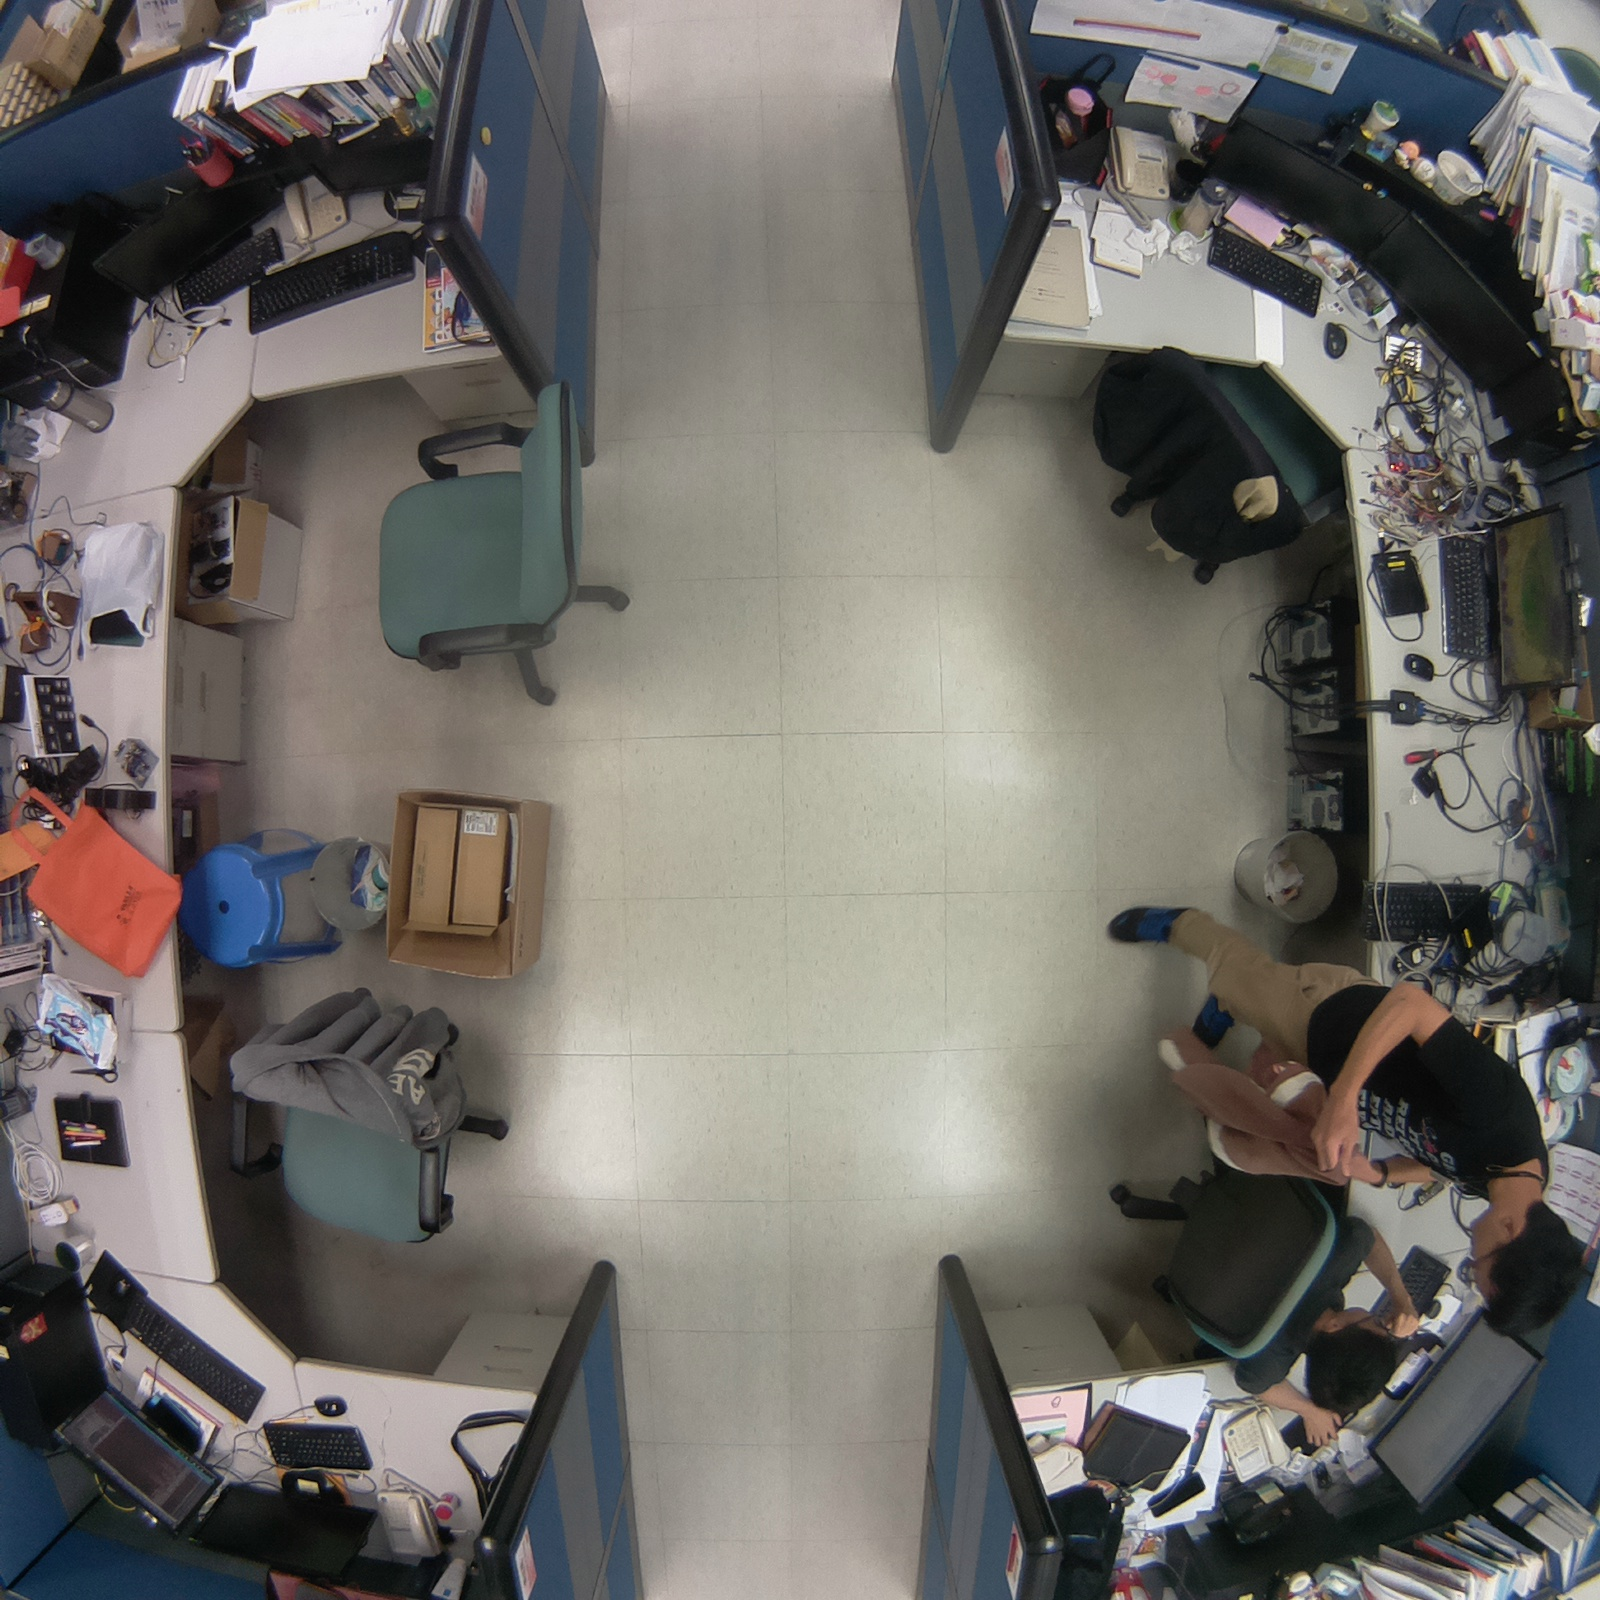chair: (347, 355, 650, 734), (201, 978, 537, 1263), (1063, 322, 1360, 601)
head: (1460, 1198, 1590, 1343), (1303, 1302, 1409, 1425)
sitting: (1104, 1163, 1418, 1450)
standing: (1091, 881, 1600, 1336)
